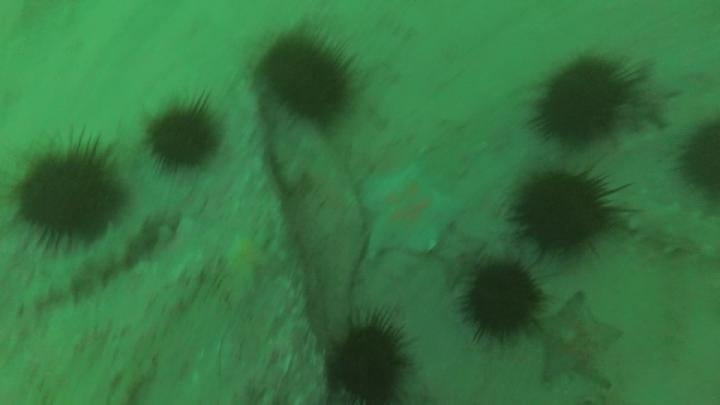echinus: (17, 155, 120, 239), (544, 62, 633, 146), (264, 40, 347, 121), (521, 174, 610, 249), (334, 322, 406, 405), (465, 262, 541, 337), (150, 110, 217, 162), (681, 119, 720, 198)
holothurian: (9, 198, 186, 306), (604, 191, 720, 264)
starfish: (357, 165, 466, 261), (537, 291, 620, 381), (223, 235, 272, 279)
